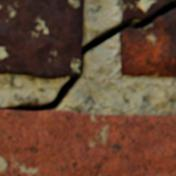brick: (0, 110, 175, 175), (0, 0, 83, 79)
broken_brick: (118, 9, 175, 77), (120, 0, 172, 23)
crack: (0, 0, 175, 111)
